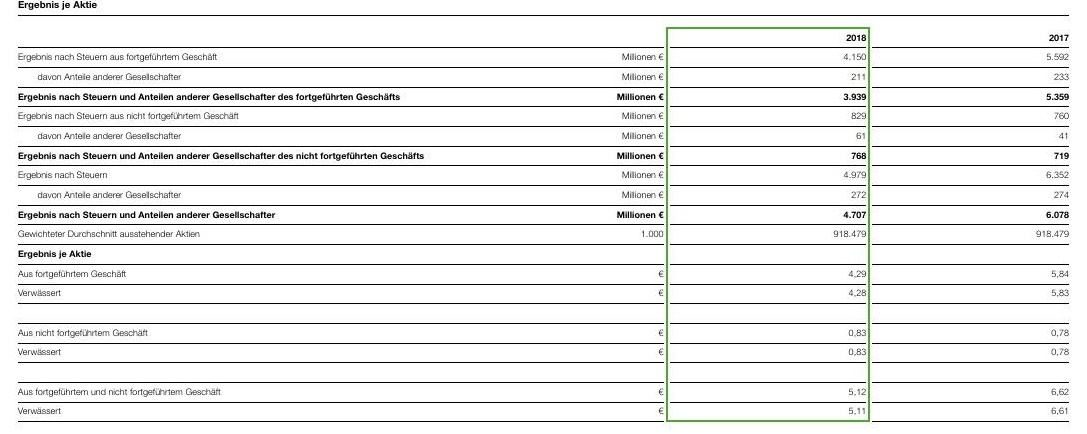table: (0, 0, 1087, 434)
